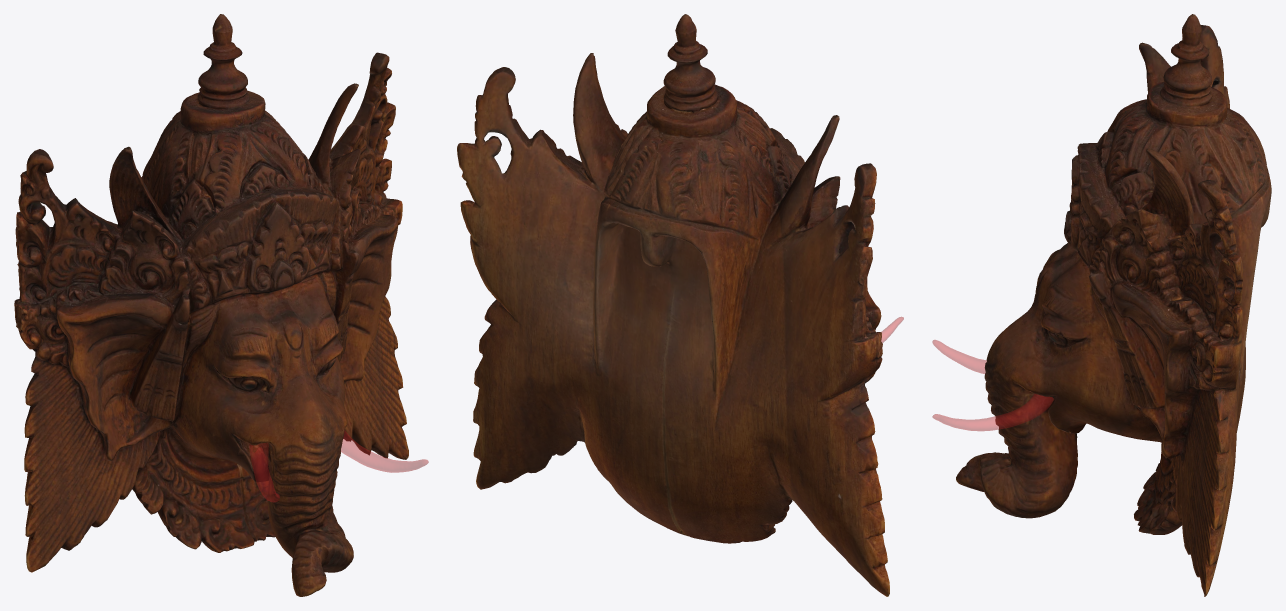
The model's file is sf-ganesha-wooden-mask-2beef4.glb.
3 renders of one model, left to right at view 1: azimuth 30°, elevation 25°; view 2: azimuth 150°, elevation 25°; view 3: azimuth 270°, elevation 25°, orthographic. The views are drawn at different scales.
Parts seen in each view (by area): view 1: ganesh_low_ganesh_low_0, ganesh_low_tusks_ganesh_low_tusks_0; view 2: ganesh_low_ganesh_low_0; view 3: ganesh_low_ganesh_low_0, ganesh_low_tusks_ganesh_low_tusks_0.
Boxes of the visible parts, x1=… form: ganesh_low_ganesh_low_0: x1=14, y1=14, x2=408, y2=596; ganesh_low_tusks_ganesh_low_tusks_0: x1=249, y1=431, x2=428, y2=502; ganesh_low_ganesh_low_0: x1=457, y1=14, x2=889, y2=596; ganesh_low_ganesh_low_0: x1=956, y1=14, x2=1271, y2=596; ganesh_low_tusks_ganesh_low_tusks_0: x1=932, y1=340, x2=1053, y2=430.
Bounding box in the file's own units: 22.9 × 28.68 × 17.38.
2 materials, 1 textured.
